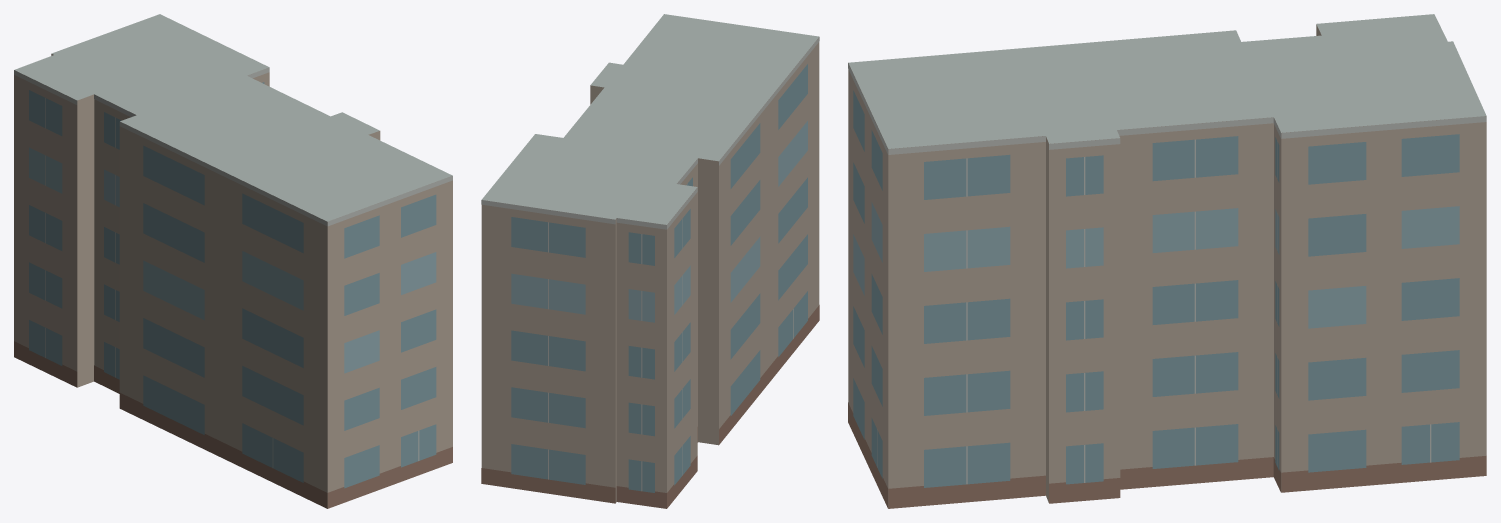
Rendered from survey-upis-32641294.glb.
The picture shows the model from 3 angles, left to right: view 1: azimuth 30°, elevation 25°; view 2: azimuth 150°, elevation 25°; view 3: azimuth 270°, elevation 25°; orthographic projection. The views are drawn at different scales.
Parts seen in each view (by area): view 1: survey-upis-32641294.tmp; view 2: survey-upis-32641294.tmp; view 3: survey-upis-32641294.tmp.
Part boxes in pixels (bbox=[...]): survey-upis-32641294.tmp: bbox=[14, 14, 452, 508]; survey-upis-32641294.tmp: bbox=[481, 14, 819, 508]; survey-upis-32641294.tmp: bbox=[848, 14, 1486, 508].
Size of the model in its own units: 11.72 by 14.55 by 23.4.
